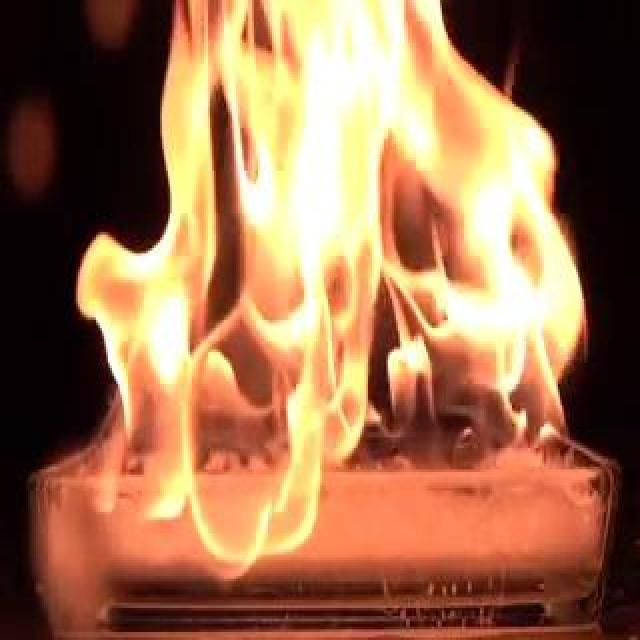Fire: (20, 3, 560, 549)
